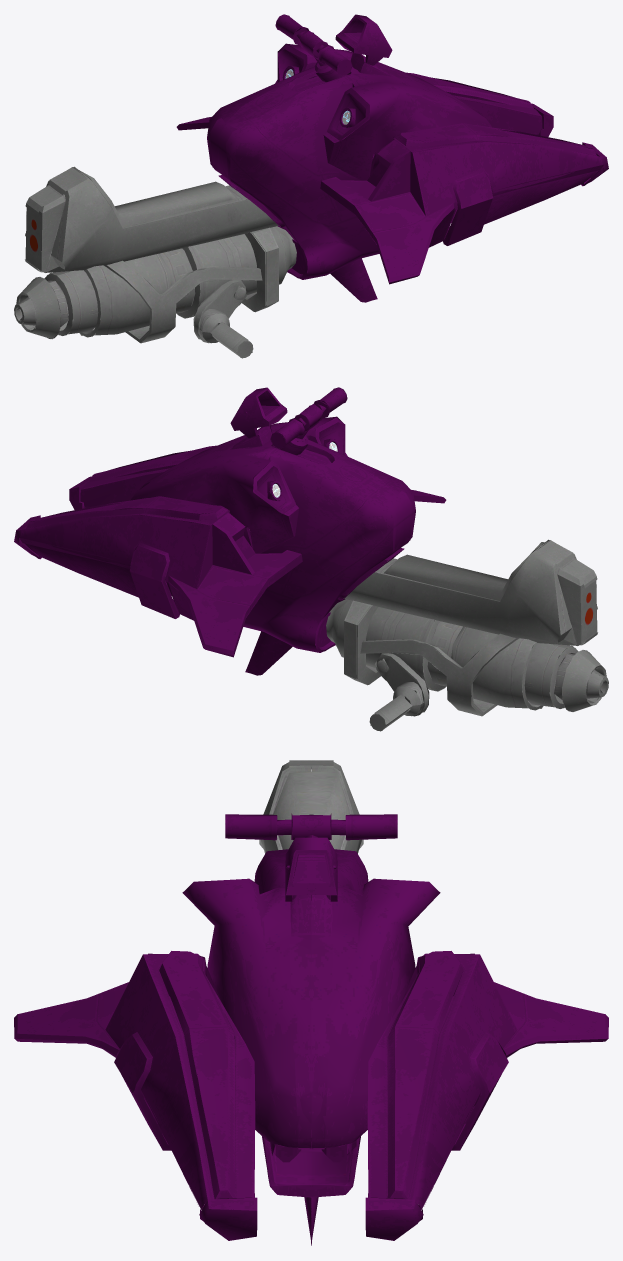
File: sparrow.glb
3 renders of one model, top to bottom at view 1: azimuth 30°, elevation 25°; view 2: azimuth 150°, elevation 25°; view 3: azimuth 270°, elevation 25°, orthographic. The views are drawn at different scales.
Parts seen in each view (by area): view 1: 1363029408_58264581_007; view 2: 1363029408_58264581_007; view 3: 1363029408_58264581_007.
Part boxes in pixels (x1,y1,x2,y2): 1363029408_58264581_007: [14, 14, 608, 358]; 1363029408_58264581_007: [14, 387, 608, 731]; 1363029408_58264581_007: [14, 760, 608, 1245].
Bounding box in the file's own units: 0.8136 × 0.3998 × 0.5408.
3 materials, 2 textured.
